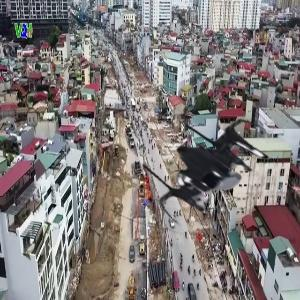drone: (142, 101, 280, 239)
